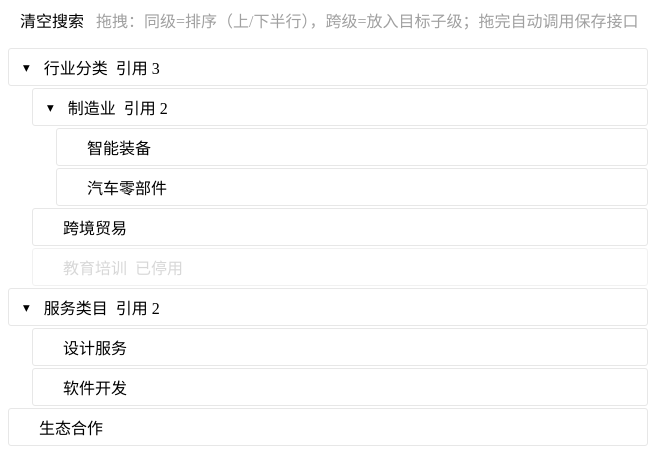
it: TagTreePage（树页：展开/搜索高亮/停用标记） › 点击展开/收起切换子级显示
Expected: the list item with test id "tag-node-ind" is shown, [8,48,648,86]
Expected: the list item with test id "tag-node-ind-mfg" is shown, [32,88,648,126]
Step 1. Click the button with test id "tag-toggle-ind" → (26, 67), box [17,58,36,76]
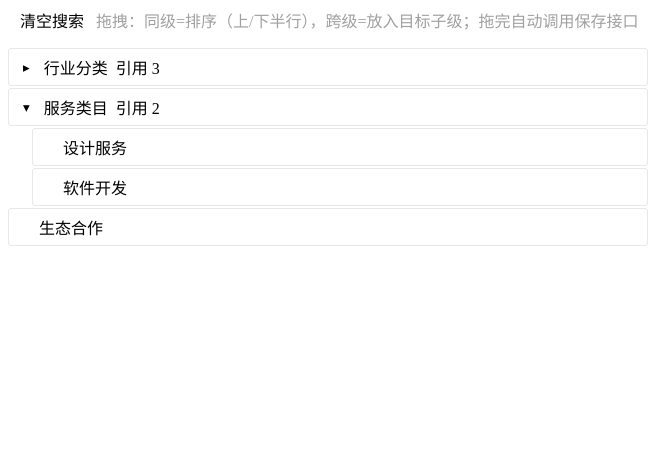
Result: the list item with test id "tag-node-ind-mfg" is gone
Step 2. Click the button with test id "tag-toggle-ind" → (26, 67), box [17,58,36,76]
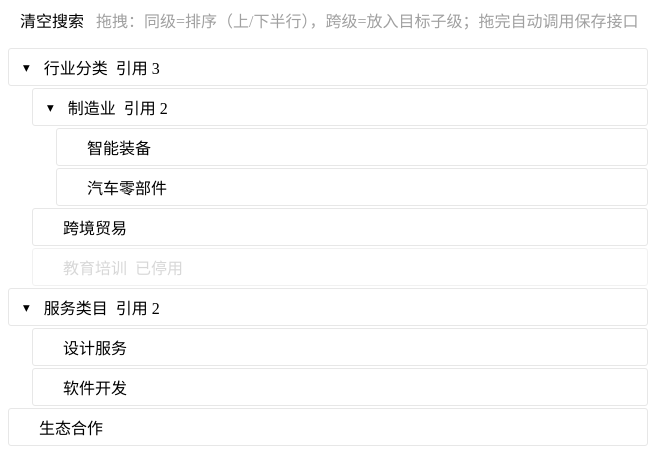
Result: the list item with test id "tag-node-ind-mfg" is shown at [32,88,648,126]
